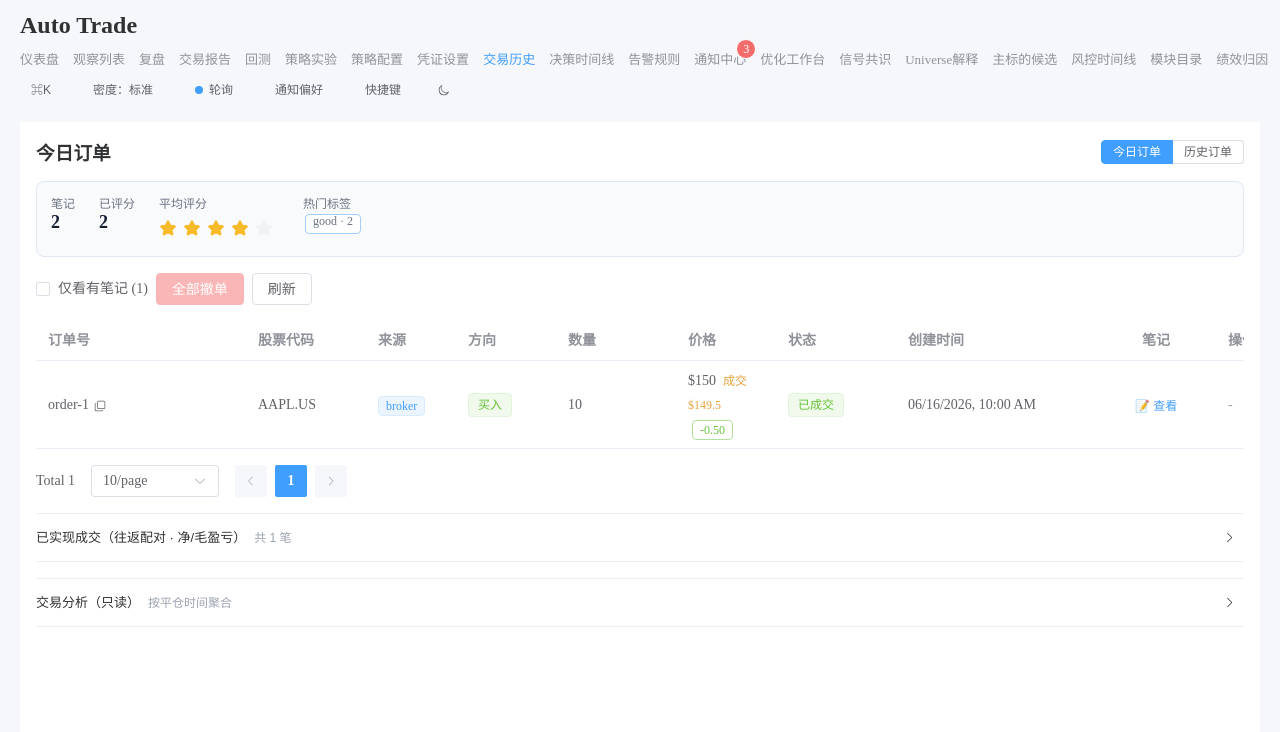
Closed round-trip trades › lists paired entry<->exit round trips with net/gross PnL
Expand the collapsible round-trip panel.
Click the button "已实现成交（往返配对 · 净/毛盈亏） 共 1 笔" at coordinates (141, 537), box [36, 514, 1244, 562]
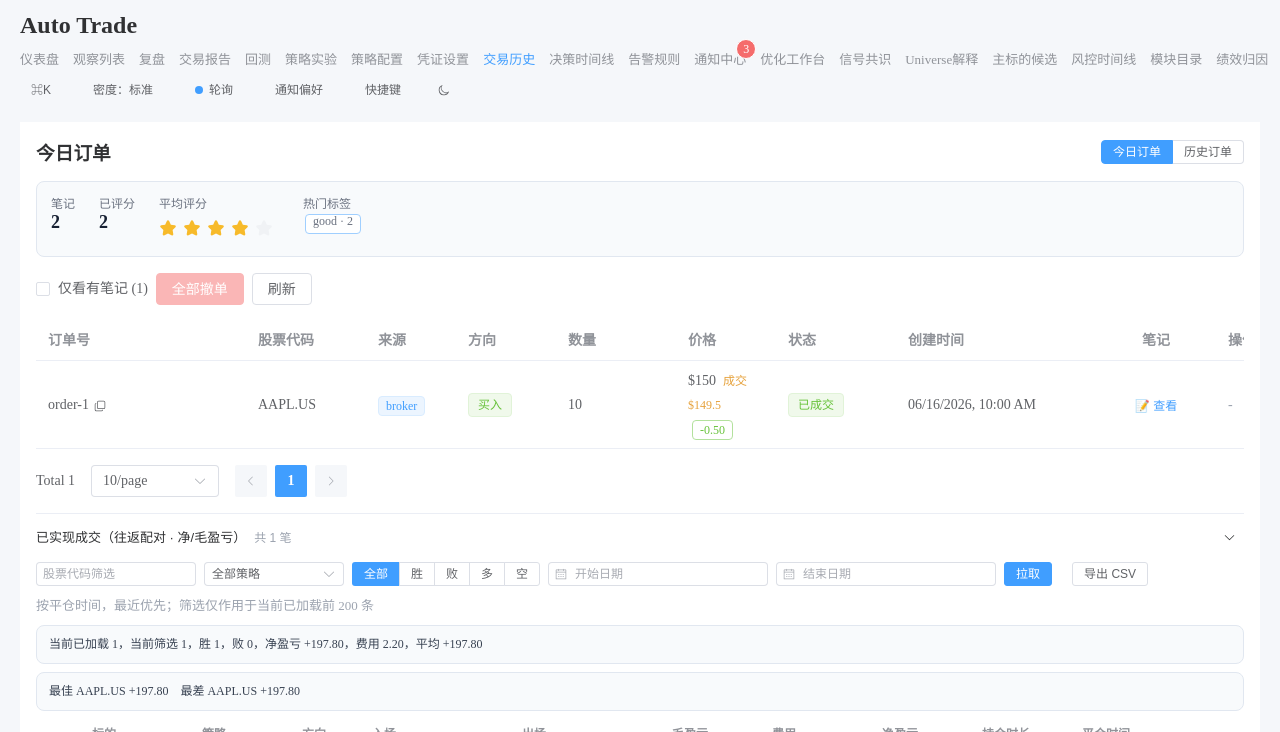
Expected: the text "AAPL.US" is shown, [258, 397, 316, 412]
Now the element with test id "roundtrips-table" is shown, box [36, 719, 1244, 731]
Now the text "+197.80" is shown, box [49, 637, 483, 651]
